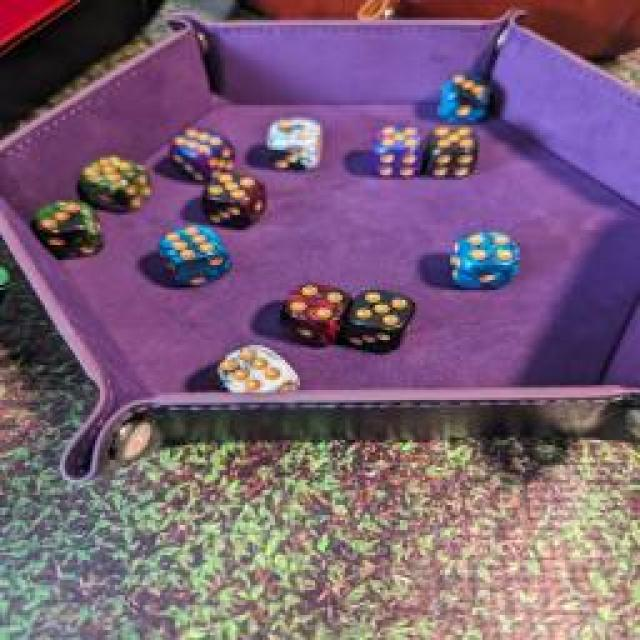dice_2: (258, 110, 334, 175)
dice_3: (28, 200, 108, 260), (428, 70, 494, 130)
dice_4: (444, 225, 524, 290)
dice_5: (273, 275, 355, 355), (338, 286, 424, 349), (192, 168, 272, 234), (72, 151, 148, 214), (362, 119, 426, 179), (424, 121, 484, 181)
dice_6: (206, 336, 312, 406), (155, 222, 230, 286), (168, 122, 238, 188)
